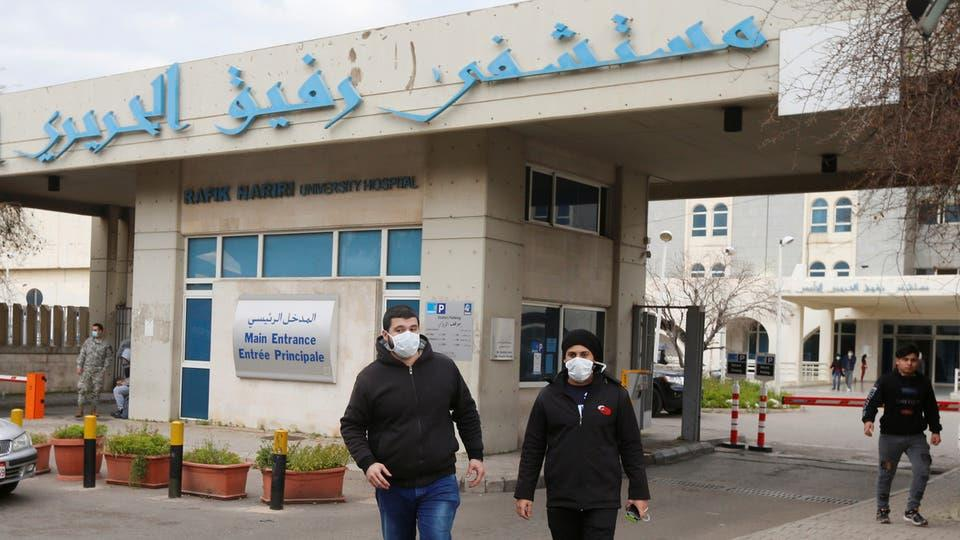with_mask: (388, 316, 418, 357), (565, 342, 593, 374)
without_mask: (898, 352, 918, 375)
